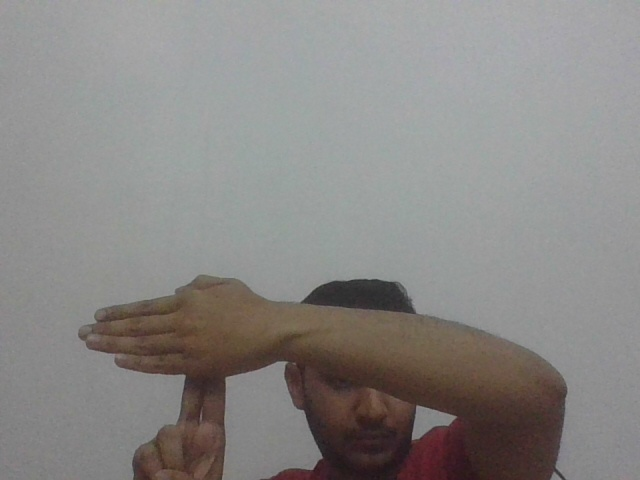N: (75, 272, 254, 430)
